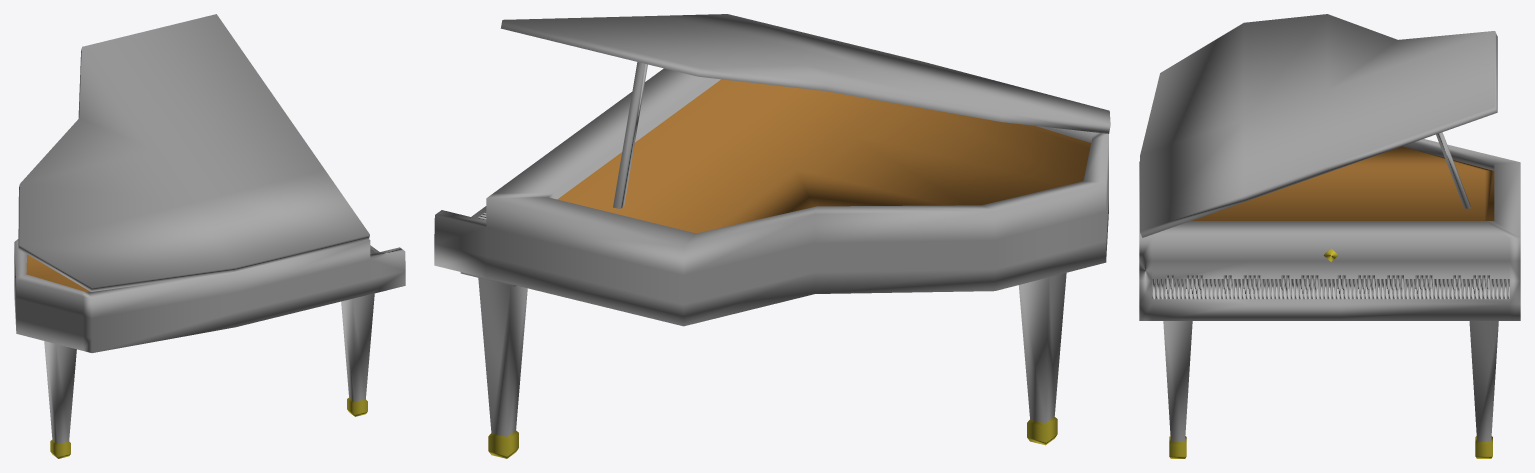
Rendered from Piano_01.obj.
3 renders of one model, left to right at view 1: azimuth 30°, elevation 25°; view 2: azimuth 150°, elevation 25°; view 3: azimuth 270°, elevation 25°, orthographic. The views are drawn at different scales.
Bounding box in the file's own units: 0.0127 × 0.0107 × 0.0106.
